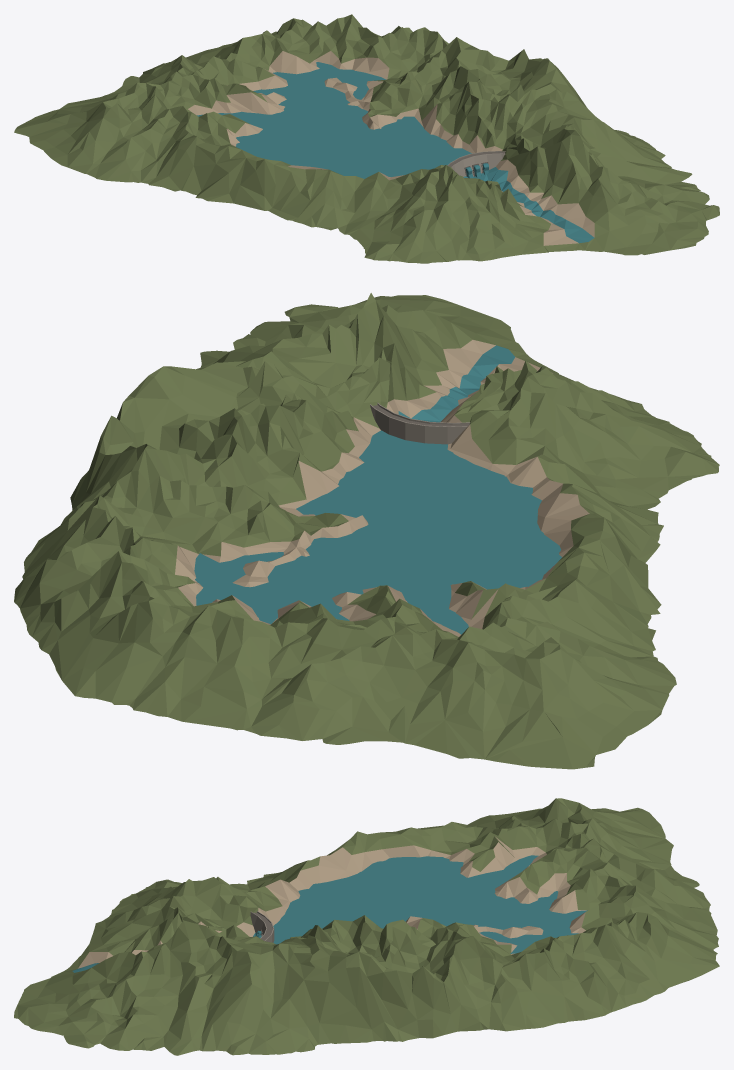
Rendered from SM_Envr_Nature_Mountain_03.fbx.
3 renders of one model, top to bottom at view 1: azimuth 30°, elevation 25°; view 2: azimuth 150°, elevation 25°; view 3: azimuth 270°, elevation 25°, orthographic. The views are drawn at different scales.
Visible parts, largest first — view 1: SM_Envr_Nature_Mountain_03, SM_Envr_Nature_Mountain_03_Water; view 2: SM_Envr_Nature_Mountain_03, SM_Envr_Nature_Mountain_03_Water; view 3: SM_Envr_Nature_Mountain_03, SM_Envr_Nature_Mountain_03_Water.
Boxes of the visible parts, x1=… form: SM_Envr_Nature_Mountain_03: x1=14, y1=14, x2=719, y2=263; SM_Envr_Nature_Mountain_03_Water: x1=197, y1=62, x2=471, y2=178; SM_Envr_Nature_Mountain_03: x1=14, y1=293, x2=719, y2=769; SM_Envr_Nature_Mountain_03_Water: x1=194, y1=430, x2=561, y2=634; SM_Envr_Nature_Mountain_03: x1=14, y1=798, x2=719, y2=1055; SM_Envr_Nature_Mountain_03_Water: x1=273, y1=855, x2=587, y2=953.
Bounding box in the file's own units: 96297 × 13737 × 115764.
